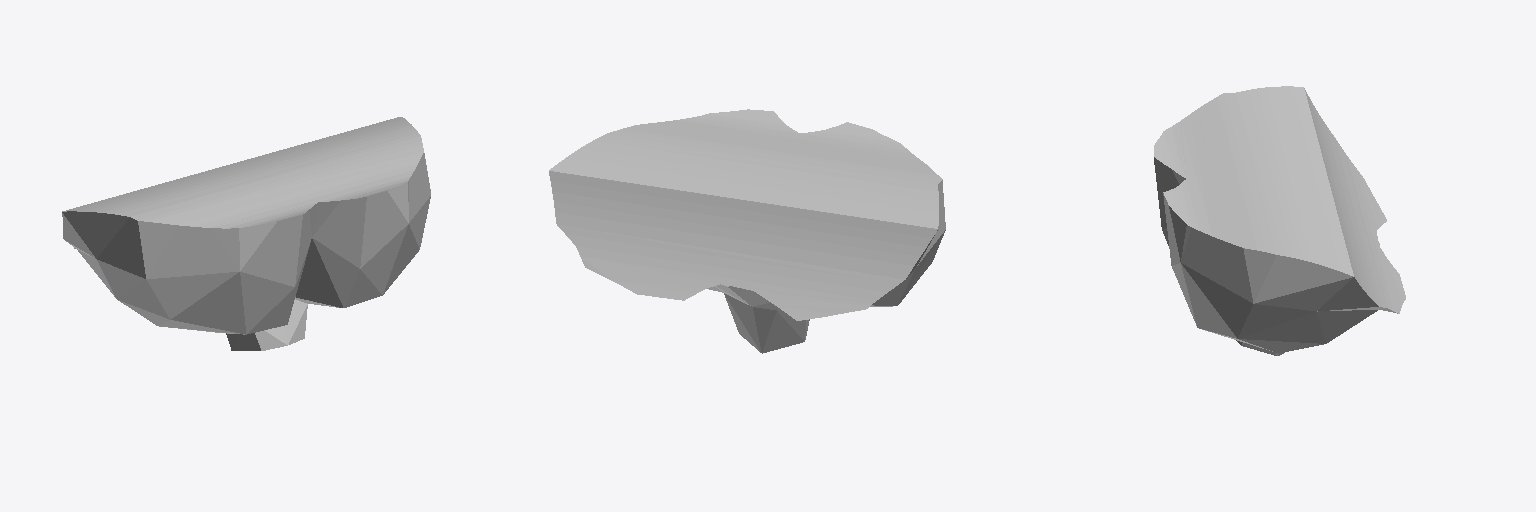
Rendered from CerebellumLobStream.obj.
The picture shows the model from 3 angles: view 1: azimuth 30°, elevation 25°; view 2: azimuth 150°, elevation 25°; view 3: azimuth 270°, elevation 25°; orthographic projection.
Parts seen in each view (by area): view 1: Assem1.004; view 2: Assem1.004; view 3: Assem1.004.
Part boxes in pixels (x1,y1,x2,y2): Assem1.004: (62,117,430,350); Assem1.004: (549,109,945,353); Assem1.004: (1154,86,1405,355).
Size of the model in its own units: 5 by 2.4 by 3.